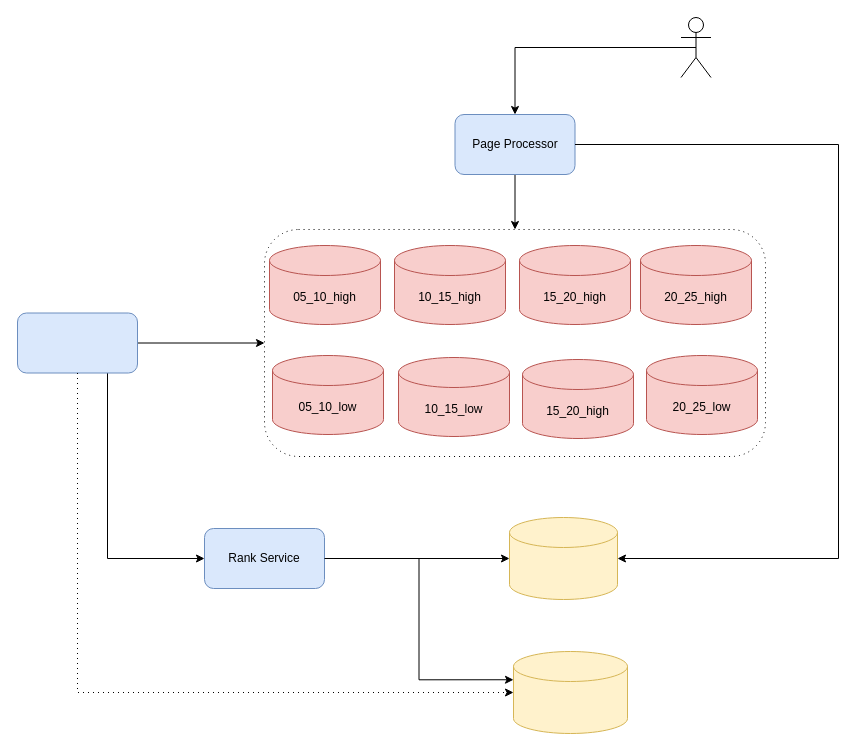
Some shapes in this 864 by 751 pixel diagram are drawn without their labels. Each missing label, with the centre of its shape:
"bot" goes at point 695,47.
"page_tag" goes at point 563,558.
"Search Service" goes at point 77,342.
"user_tag" goes at point 570,692.
